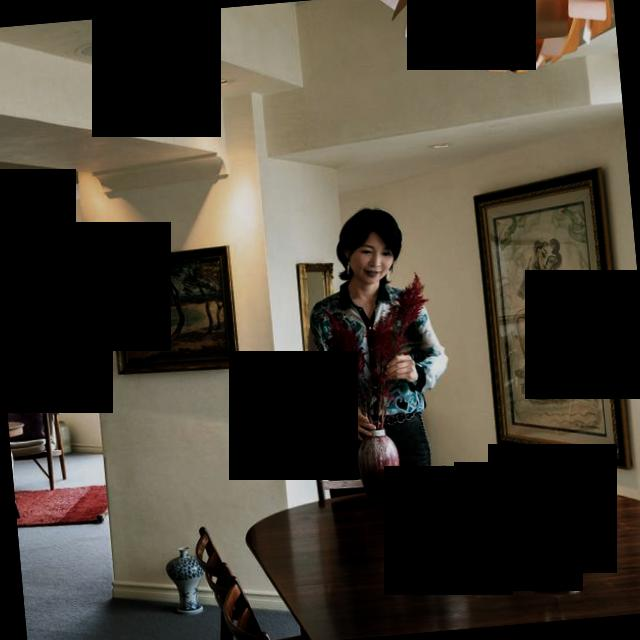vintage desk: (239, 463, 640, 640)
